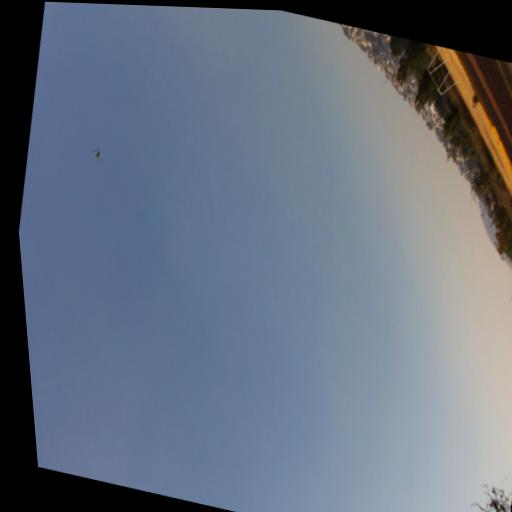drones: (90, 142, 107, 167)
